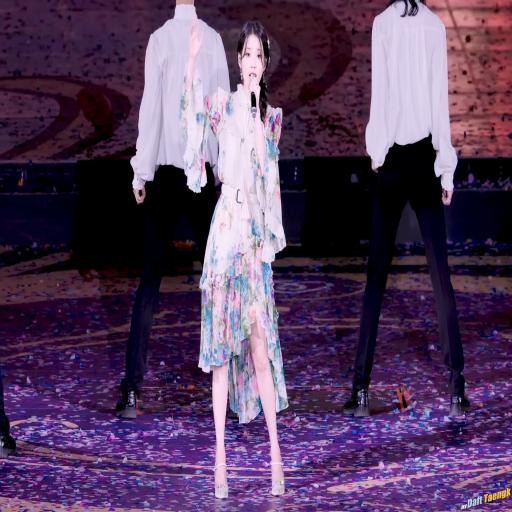IU: (236, 18, 270, 94)
